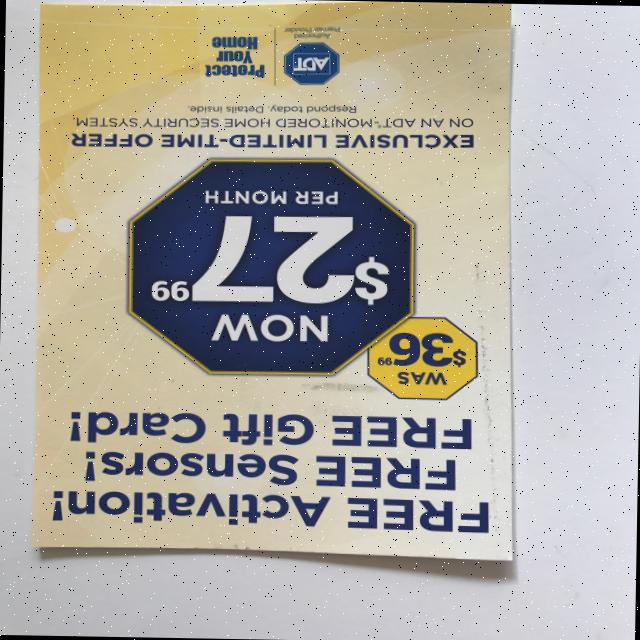paper: (28, 0, 521, 560)
